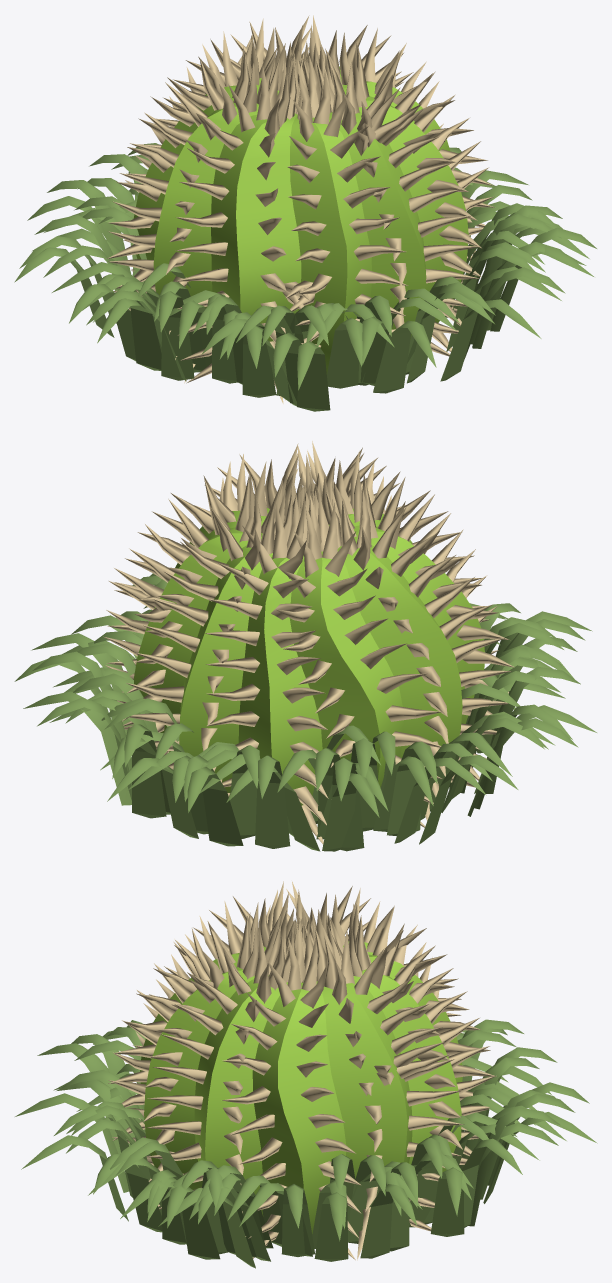
The model's file is SCactus1.fbx.
3 views of the same model, one above another, from view 1: azimuth 30°, elevation 25°; view 2: azimuth 150°, elevation 25°; view 3: azimuth 270°, elevation 25° (orthographic). The views are drawn at different scales.
Visible parts, largest first — view 1: SCactus1; view 2: SCactus1; view 3: SCactus1.
Part boxes in pixels (<box>): SCactus1: <box>14,15,596,411</box>; SCactus1: <box>14,441,596,851</box>; SCactus1: <box>15,881,597,1268</box>.
Size of the model in its own units: 335 by 185 by 348.
